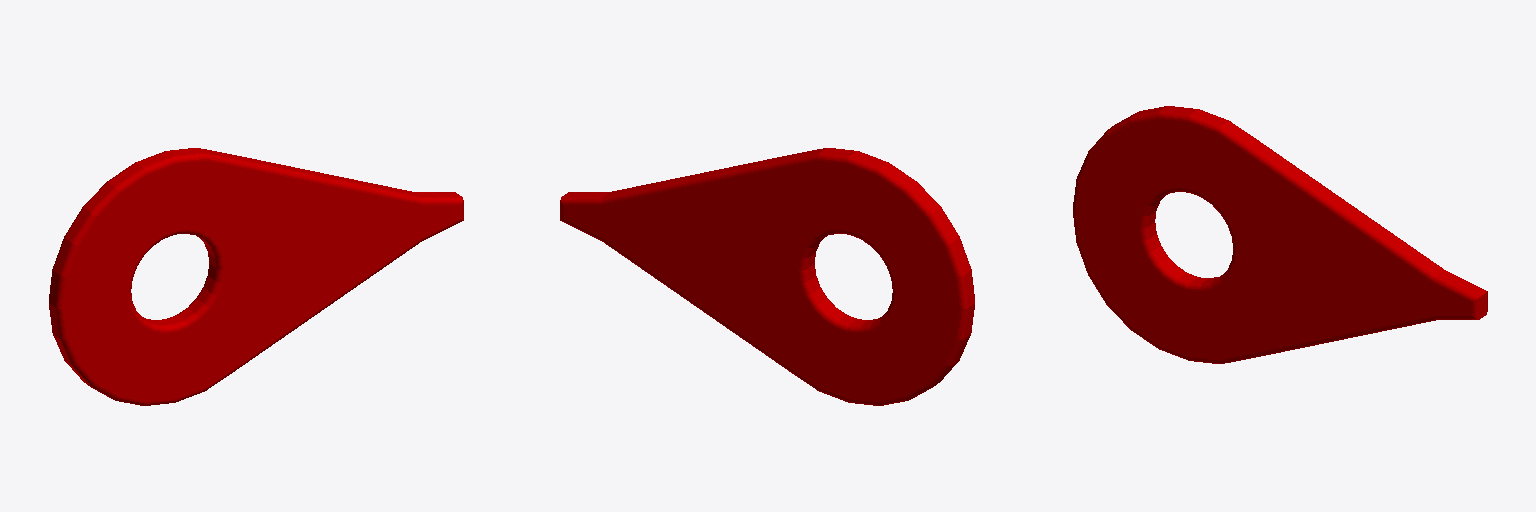
Rendered from map_marker.obj.
3 views of the same model, side by side, from view 1: azimuth 30°, elevation 25°; view 2: azimuth 150°, elevation 25°; view 3: azimuth 330°, elevation 25° (orthographic).
Visible parts, largest first — view 1: maps_marker; view 2: maps_marker; view 3: maps_marker.
Part boxes in pixels (bbox=[...]): maps_marker: bbox=[49, 148, 463, 405]; maps_marker: bbox=[560, 148, 974, 405]; maps_marker: bbox=[1073, 106, 1487, 363].
Bounding box in the file's own units: 14.96 × 8.66 × 0.7874.